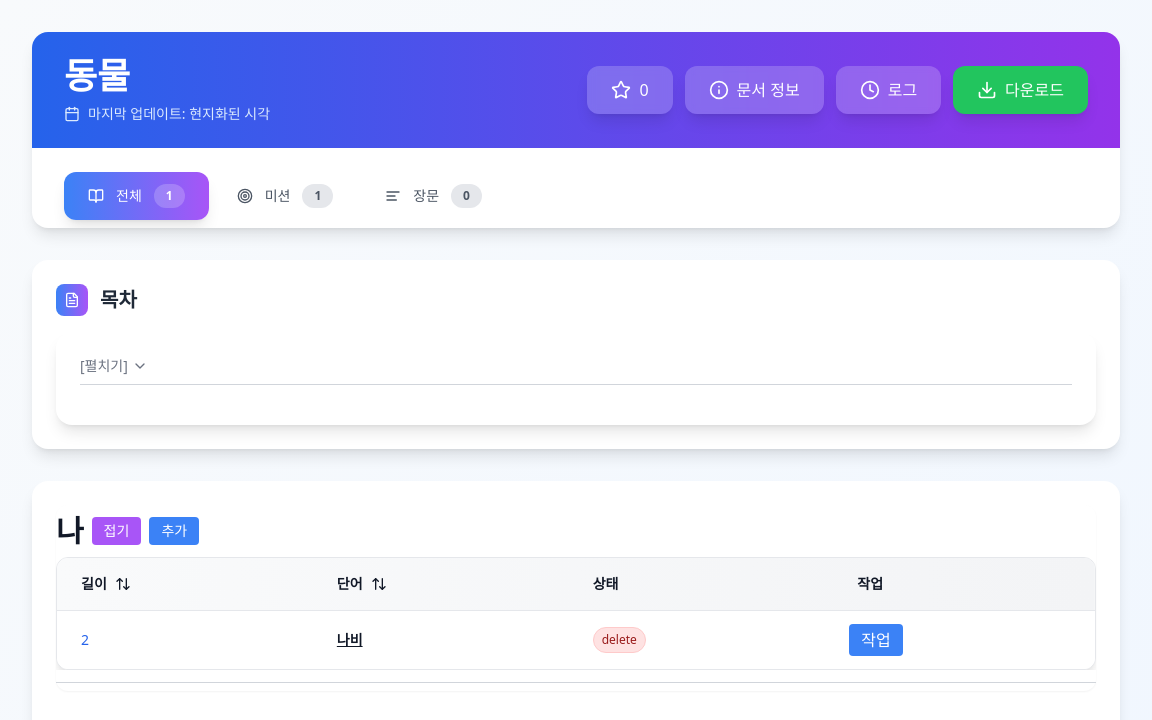
it: DocsDataHome administrator removal completion integration › shows the legacy whole-request cancellation only to whole-requester before overlap resolution
Click the button "작업" at (876, 640), box left=849, top=624, right=903, bottom=656
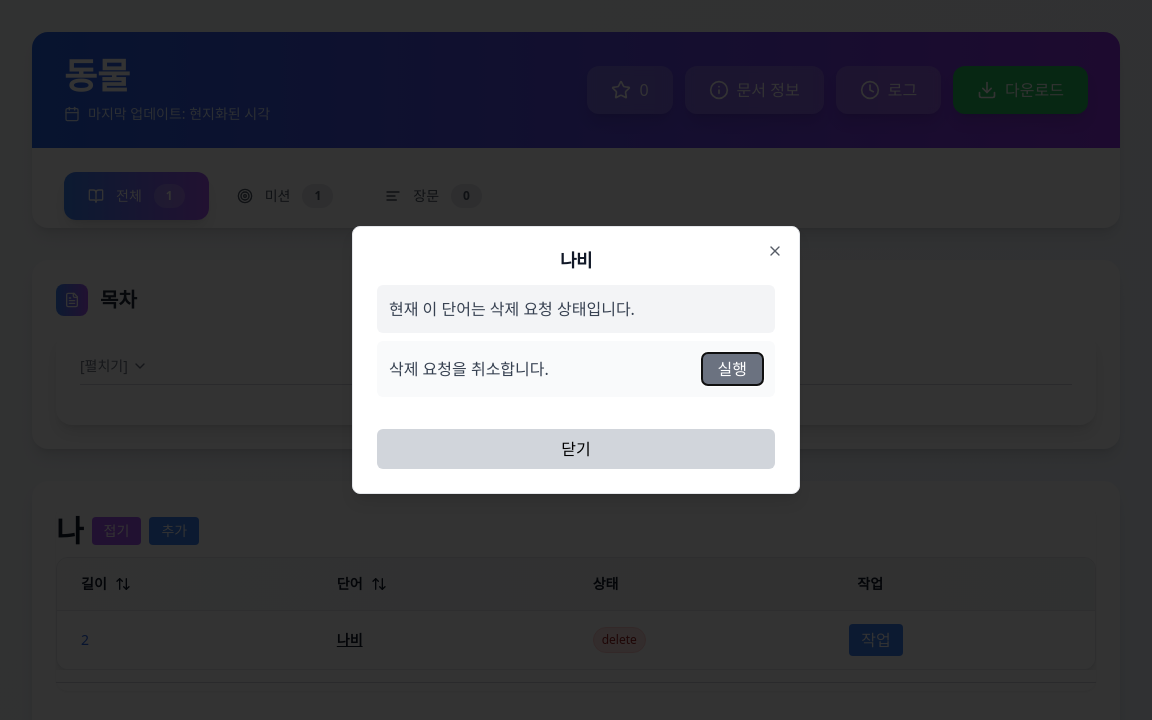
Now the text "삭제 요청을 취소합니다." is shown, box left=389, top=357, right=549, bottom=381
